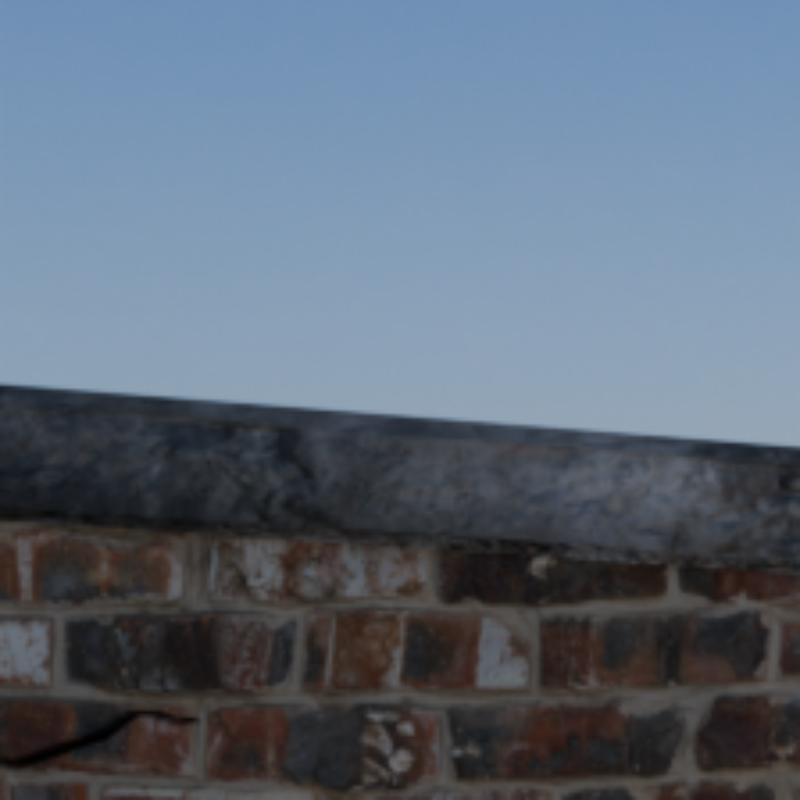pothole: (0, 707, 200, 764)
